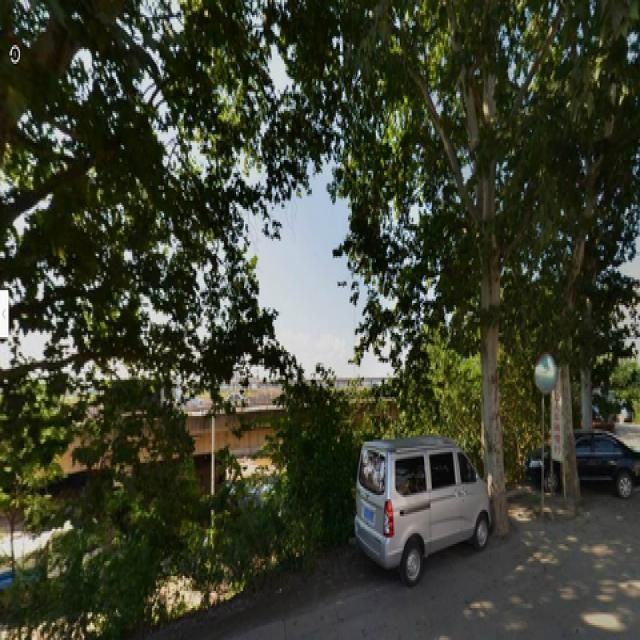meta: (416, 22, 539, 520), (547, 25, 601, 510)
